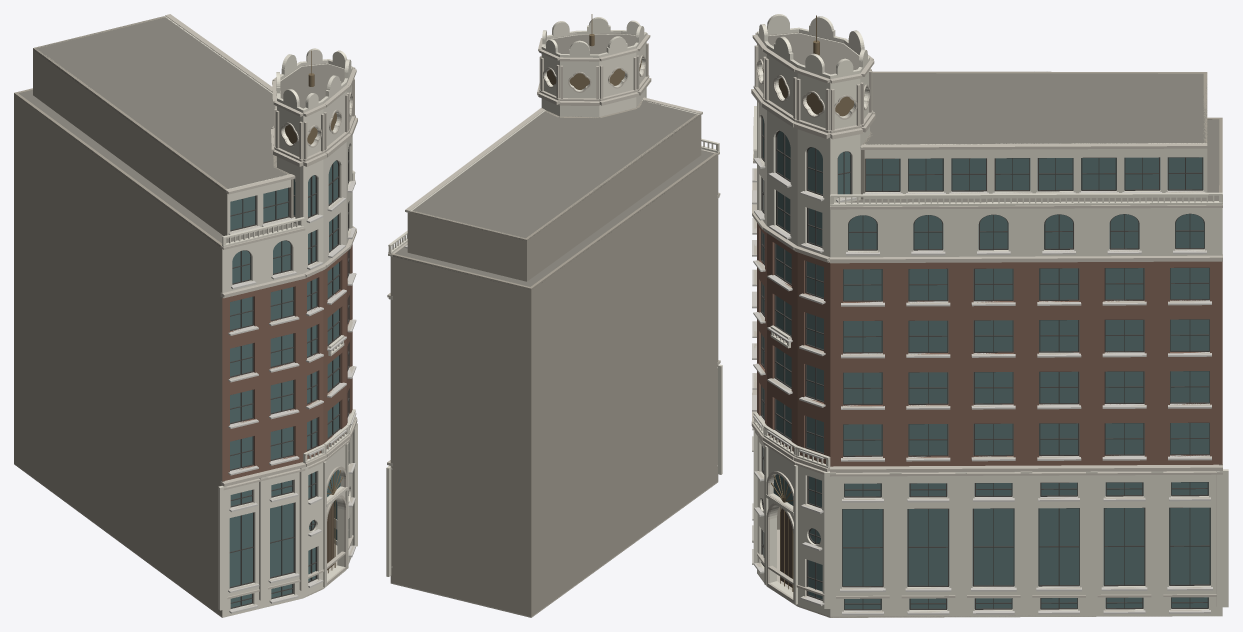
Rendered from huangpu-four-banks-savings-building-lod.glb.
3 renders of one model, left to right at view 1: azimuth 30°, elevation 25°; view 2: azimuth 150°, elevation 25°; view 3: azimuth 270°, elevation 25°, orthographic. The views are drawn at different scales.
Visible parts, largest first — view 1: 四行储蓄会大楼（四川中路261号联合大楼）; view 2: 四行储蓄会大楼（四川中路261号联合大楼）; view 3: 四行储蓄会大楼（四川中路261号联合大楼）.
Boxes of the visible parts, bbox=[...] form: 四行储蓄会大楼（四川中路261号联合大楼）: bbox=[14, 14, 357, 617]; 四行储蓄会大楼（四川中路261号联合大楼）: bbox=[386, 14, 722, 617]; 四行储蓄会大楼（四川中路261号联合大楼）: bbox=[751, 14, 1228, 617].
Size of the model in its own units: 17.24 by 49.99 by 37.49.
